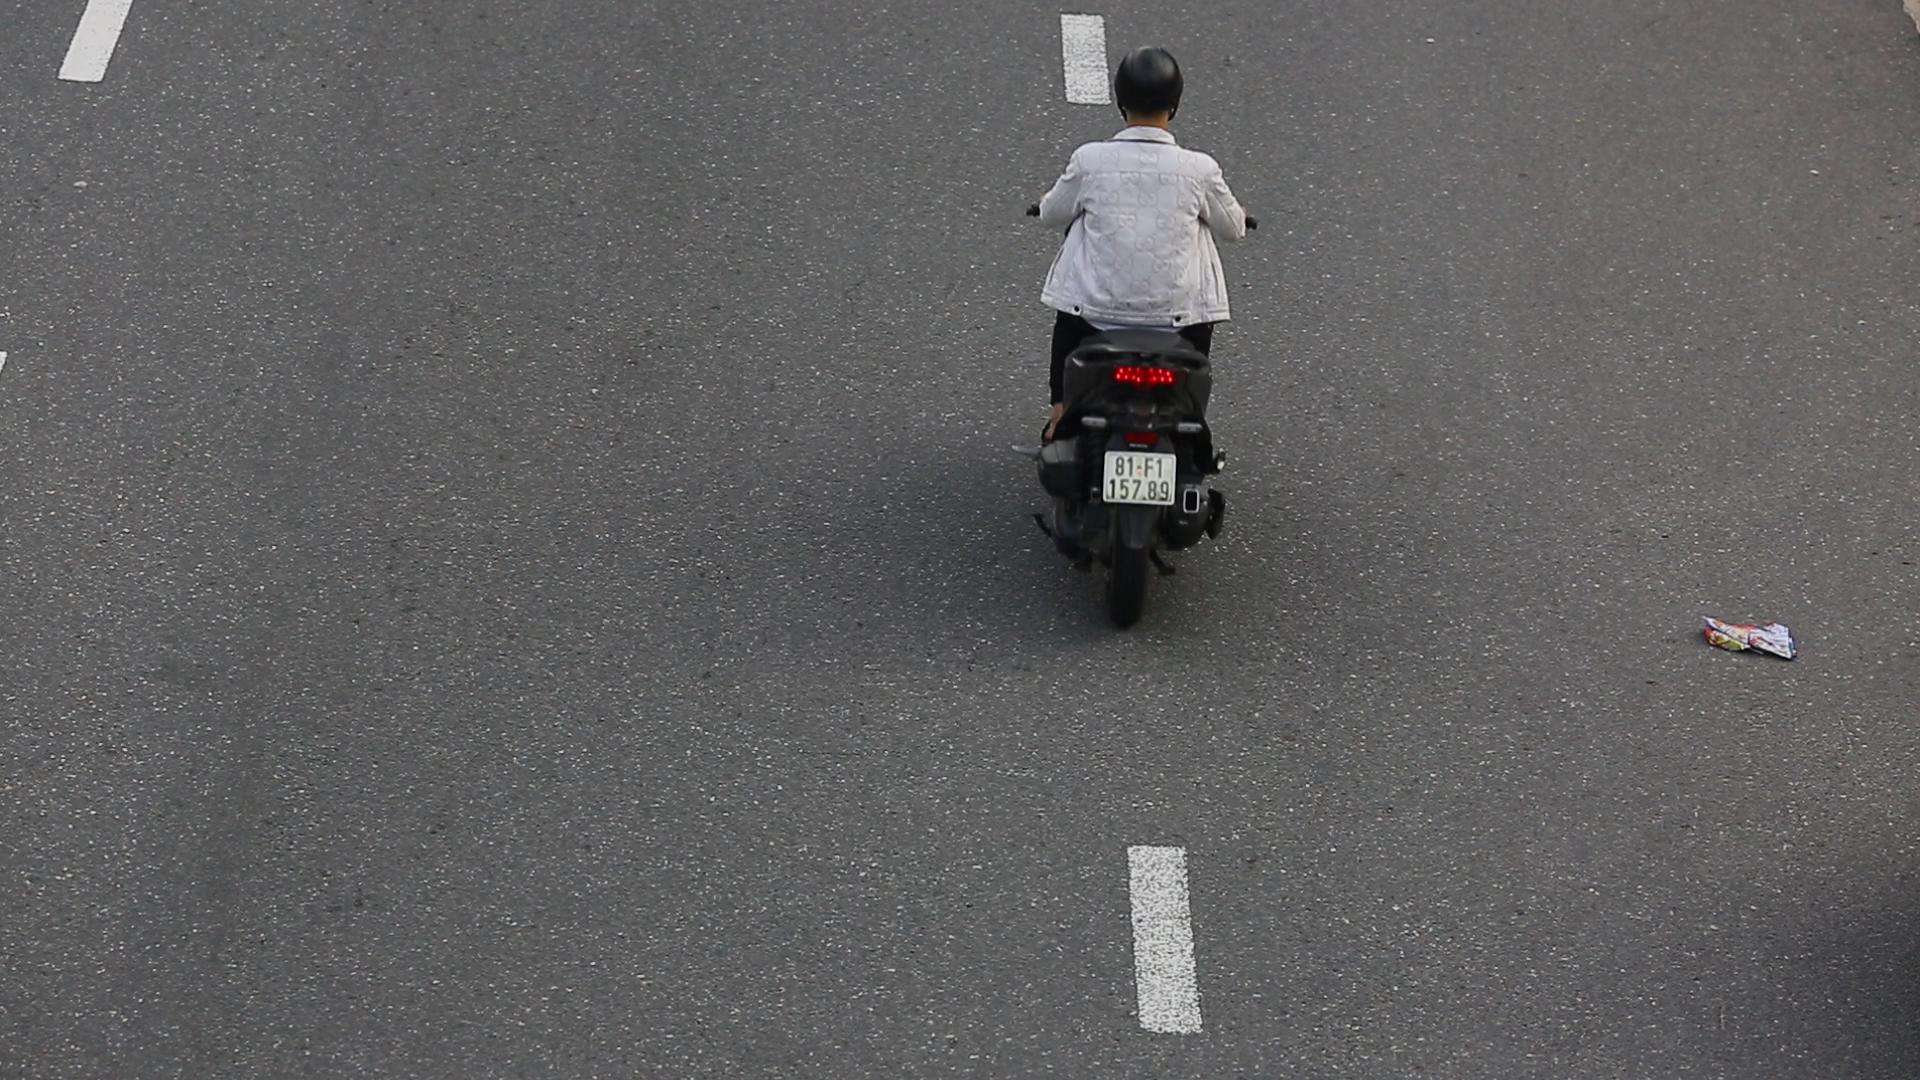motobike: (1014, 41, 1266, 642)
